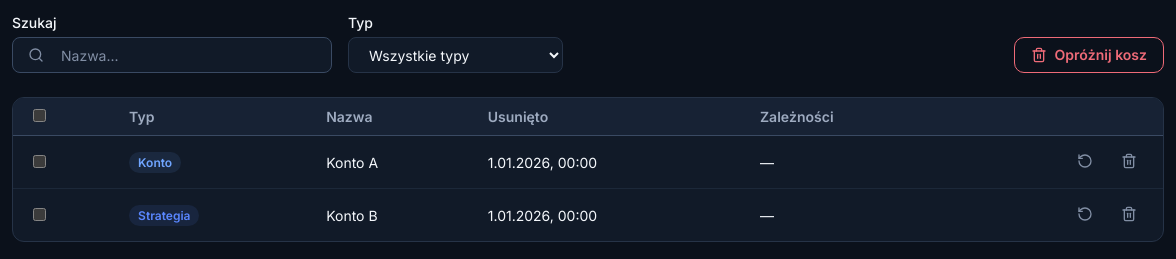
Scenario: KoszPage › filtr wyszukiwania i filtr typu działają razem (AND), nie osobno
Expected: the text "Konto A" is shown, x1=310 y1=136 x2=472 y2=188
Type "konto" into the field labelled "Szukaj" at (172, 55), box x1=12 y1=37 x2=332 y2=73
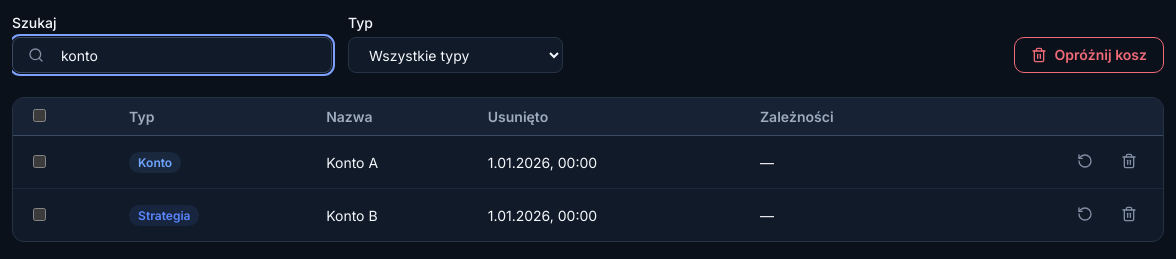
Expected: the text "Konto A" is shown, x1=310 y1=136 x2=472 y2=188
Expected: the text "Konto B" is shown, x1=310 y1=188 x2=472 y2=241
Select "Konta" in the dropdown labelled "Typ" at (456, 55), box x1=348 y1=37 x2=563 y2=73
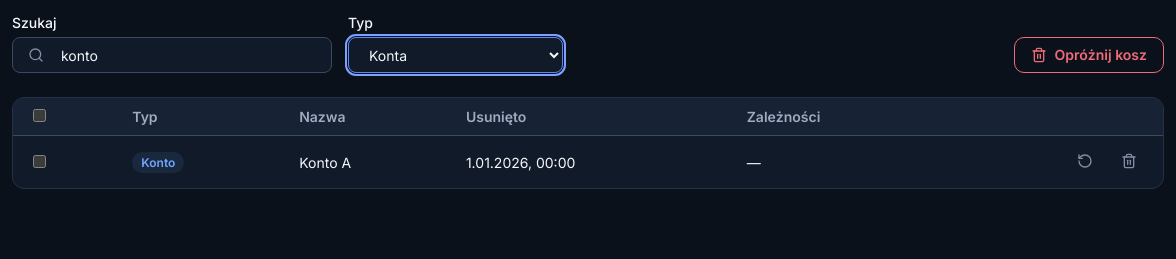
Expected: the text "Konto A" is shown, x1=283 y1=136 x2=450 y2=188
Expected: the text "Konto B" is gone
